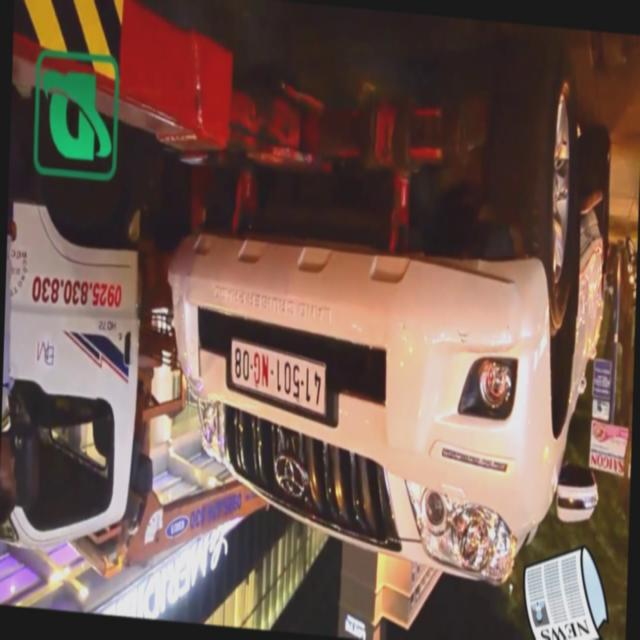bien_ngoai_giao: (228, 335, 330, 423)
